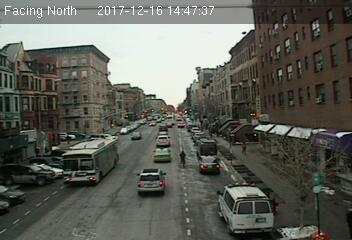bicycle: (178, 148, 188, 168)
bus: (63, 136, 119, 188)
car: (137, 167, 165, 193), (199, 155, 220, 173), (153, 146, 172, 163), (154, 135, 172, 147), (130, 131, 142, 139)
police: (217, 180, 277, 231)
